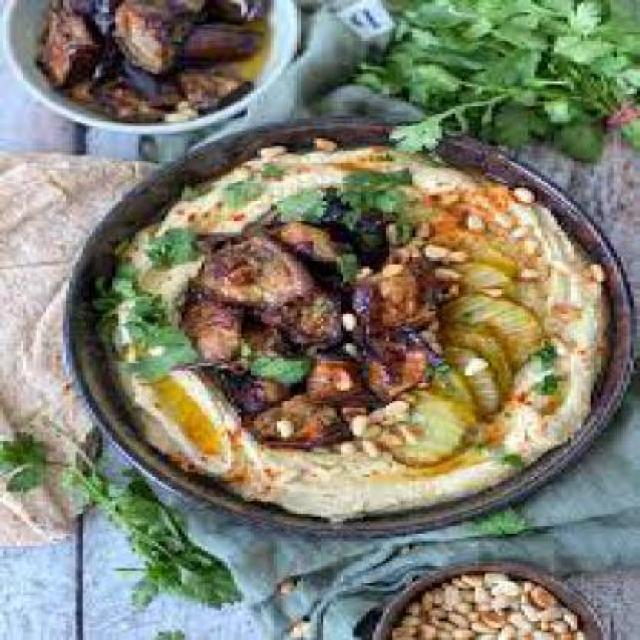eggplant: (191, 203, 449, 440)
hummus: (96, 136, 613, 522)
